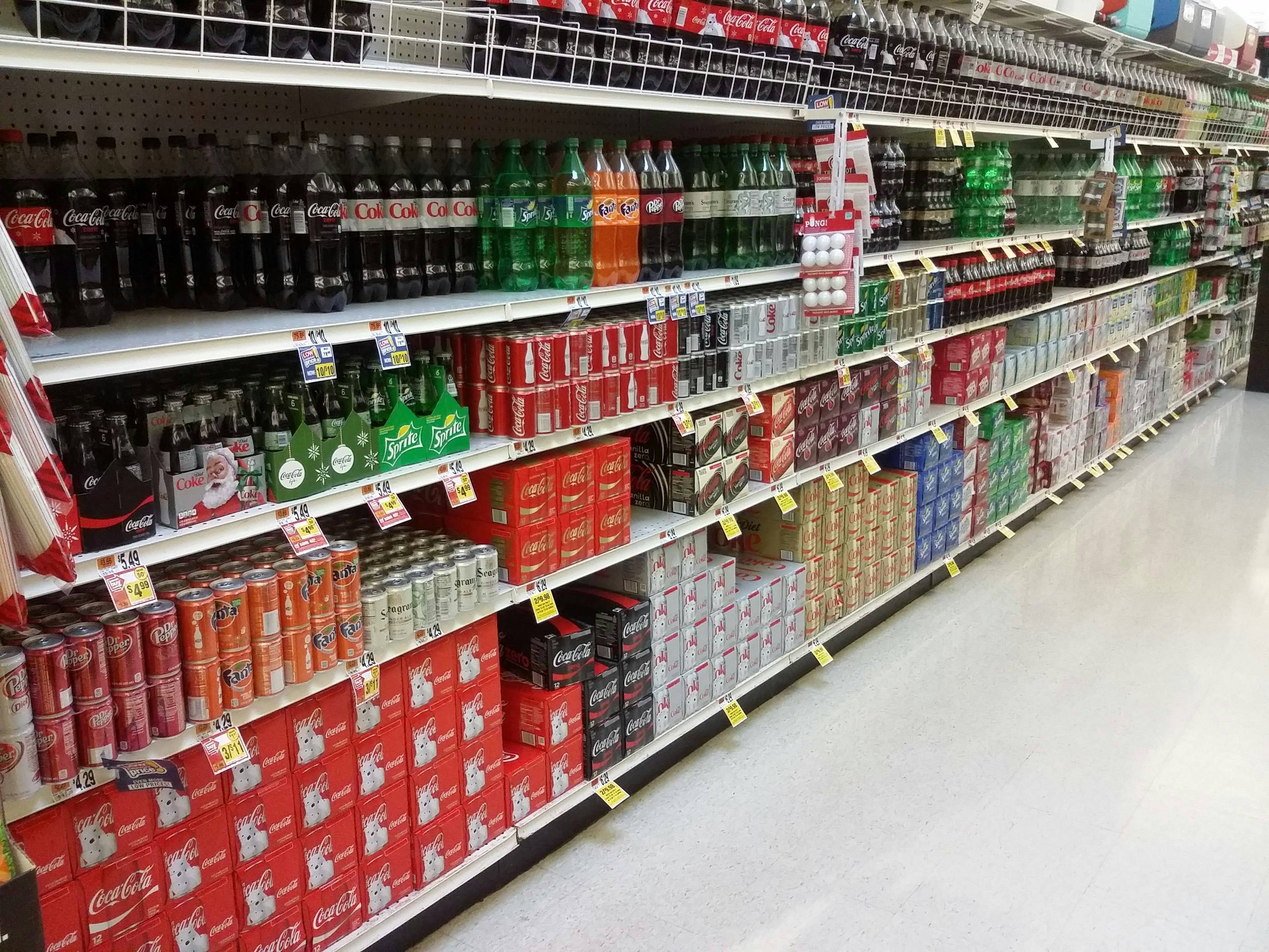Bottle: (5, 130, 61, 331), (295, 130, 350, 308), (61, 128, 107, 326), (192, 131, 236, 308), (498, 138, 538, 291), (351, 133, 387, 302), (387, 133, 423, 300), (108, 133, 140, 319), (560, 135, 596, 289), (238, 129, 266, 309), (140, 138, 169, 310), (267, 131, 295, 307), (426, 135, 454, 297), (169, 133, 193, 313), (454, 140, 482, 293), (727, 143, 758, 269), (596, 139, 621, 287), (642, 140, 666, 282), (638, 0, 675, 90), (687, 145, 712, 271), (539, 140, 560, 290), (621, 138, 642, 284), (603, 0, 637, 86), (758, 145, 782, 266), (666, 142, 687, 278), (703, 3, 733, 94), (779, 2, 805, 100), (675, 0, 702, 93), (756, 4, 781, 102), (733, 2, 756, 99), (782, 145, 799, 264), (711, 143, 726, 268)
Box: (155, 397, 267, 512), (69, 421, 156, 537), (270, 380, 330, 487), (332, 373, 380, 474), (381, 363, 428, 462), (68, 797, 152, 849), (428, 354, 471, 452), (159, 823, 229, 880), (77, 859, 158, 907), (230, 788, 294, 847), (224, 731, 290, 783), (167, 896, 235, 946), (290, 700, 352, 747), (17, 826, 68, 883), (154, 766, 220, 809), (294, 763, 354, 810), (235, 864, 297, 909), (306, 882, 359, 933), (298, 826, 355, 872), (360, 849, 411, 898), (354, 735, 406, 781), (409, 766, 461, 812), (355, 796, 408, 840), (352, 675, 403, 719), (411, 824, 467, 864), (242, 916, 304, 950), (404, 714, 456, 754), (403, 652, 456, 691), (515, 469, 557, 515), (516, 528, 558, 570), (548, 640, 594, 677), (557, 458, 595, 502), (455, 632, 500, 669), (456, 691, 503, 726), (542, 696, 582, 734), (461, 746, 503, 782), (594, 501, 631, 541), (558, 514, 594, 555), (596, 449, 630, 491), (507, 773, 546, 807), (467, 800, 507, 831), (621, 661, 652, 699), (548, 751, 583, 784), (619, 611, 652, 646), (694, 467, 725, 504), (694, 420, 722, 459), (589, 731, 623, 763), (589, 681, 620, 715), (649, 548, 680, 581), (624, 708, 653, 743), (724, 410, 749, 449), (653, 645, 680, 680), (680, 539, 708, 572), (653, 693, 683, 723), (680, 630, 710, 660), (684, 674, 712, 706), (652, 597, 679, 630), (726, 458, 751, 493), (680, 583, 708, 614), (771, 395, 795, 430), (709, 570, 736, 600), (770, 441, 794, 474), (710, 617, 736, 646), (737, 601, 760, 629), (760, 589, 781, 618)
can: (27, 639, 68, 709), (37, 714, 79, 778), (68, 632, 107, 699), (107, 621, 143, 682), (180, 597, 215, 659), (79, 703, 114, 765), (150, 672, 185, 734), (2, 730, 36, 793), (186, 664, 224, 719), (218, 583, 250, 648), (115, 687, 149, 747), (144, 613, 180, 669), (250, 578, 280, 637), (253, 639, 285, 693), (2, 649, 24, 727), (507, 334, 535, 389), (285, 626, 312, 683), (281, 570, 309, 624), (334, 546, 361, 602), (224, 653, 253, 704), (309, 557, 334, 612), (508, 390, 537, 437), (337, 606, 364, 656), (313, 616, 338, 669), (387, 583, 411, 637), (364, 588, 386, 646), (455, 556, 477, 609), (435, 565, 456, 620), (412, 573, 434, 624), (477, 547, 498, 599), (554, 330, 570, 381), (603, 373, 620, 418), (572, 329, 587, 380), (538, 334, 553, 384), (538, 388, 554, 434), (555, 384, 570, 432), (603, 322, 618, 370), (589, 323, 603, 374), (572, 381, 588, 425), (711, 658, 738, 684), (663, 314, 678, 359), (619, 322, 634, 367), (636, 366, 651, 410), (650, 362, 663, 408), (760, 631, 783, 657), (649, 316, 662, 361), (729, 348, 745, 384), (737, 644, 760, 669), (636, 320, 649, 364), (703, 309, 717, 349), (621, 370, 634, 413), (690, 309, 702, 354), (678, 359, 692, 397), (787, 334, 801, 371), (589, 378, 601, 421), (692, 355, 705, 394), (731, 305, 743, 347), (718, 306, 730, 348), (664, 360, 676, 402), (788, 297, 801, 334), (679, 314, 690, 357), (766, 300, 778, 338), (705, 350, 717, 388), (754, 300, 765, 341), (717, 350, 729, 387), (754, 343, 766, 378), (744, 304, 754, 345), (776, 338, 787, 374), (778, 298, 788, 336), (744, 345, 754, 381), (766, 340, 776, 375)
